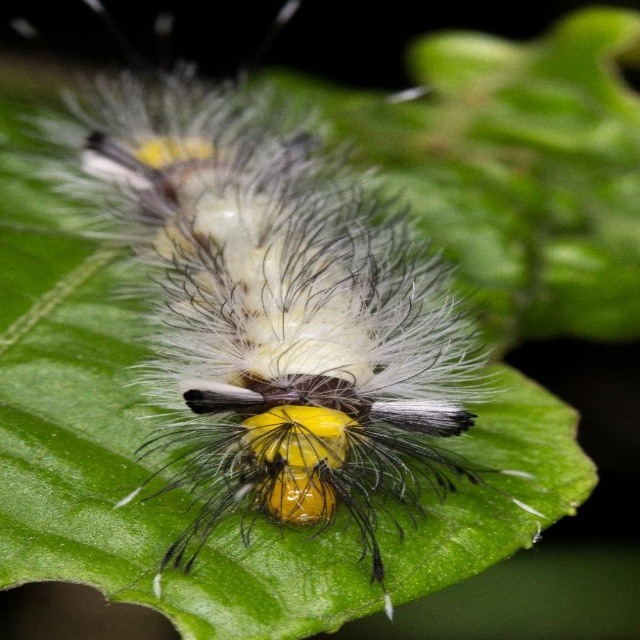Caterpillar: (11, 0, 545, 619)
